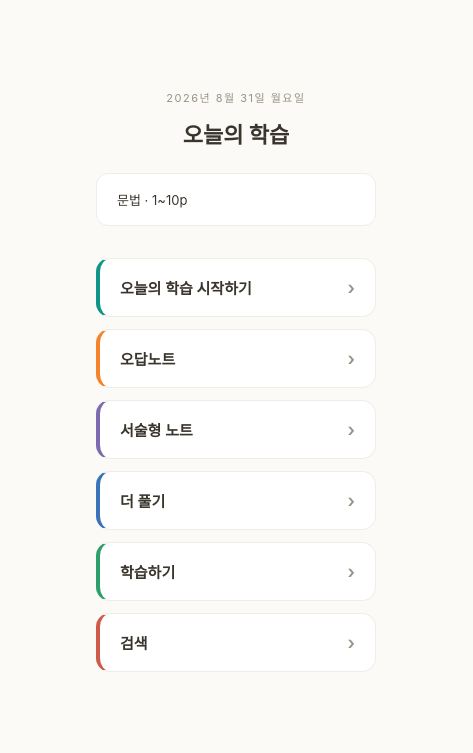
it: Daily session page › shows the book section with questions after clicking start
Step 1. Click the button "오늘의 학습 시작하기 ›" → (236, 287), box [96, 258, 376, 316]
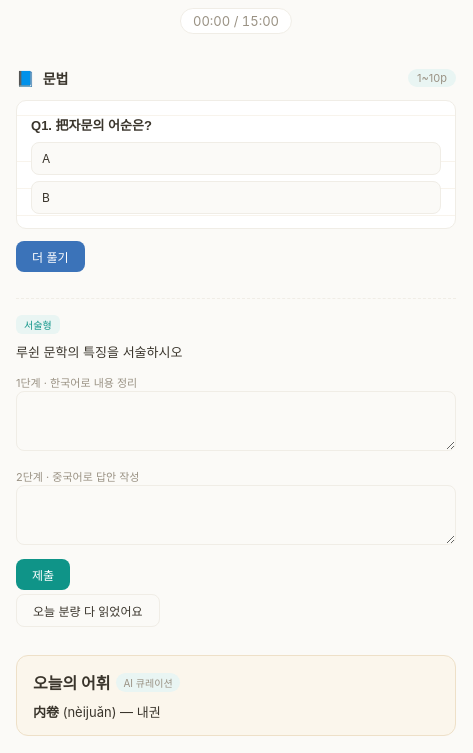
Check: the text "Q1. 把자문의 어순은?" is shown, box [31, 115, 152, 134]
